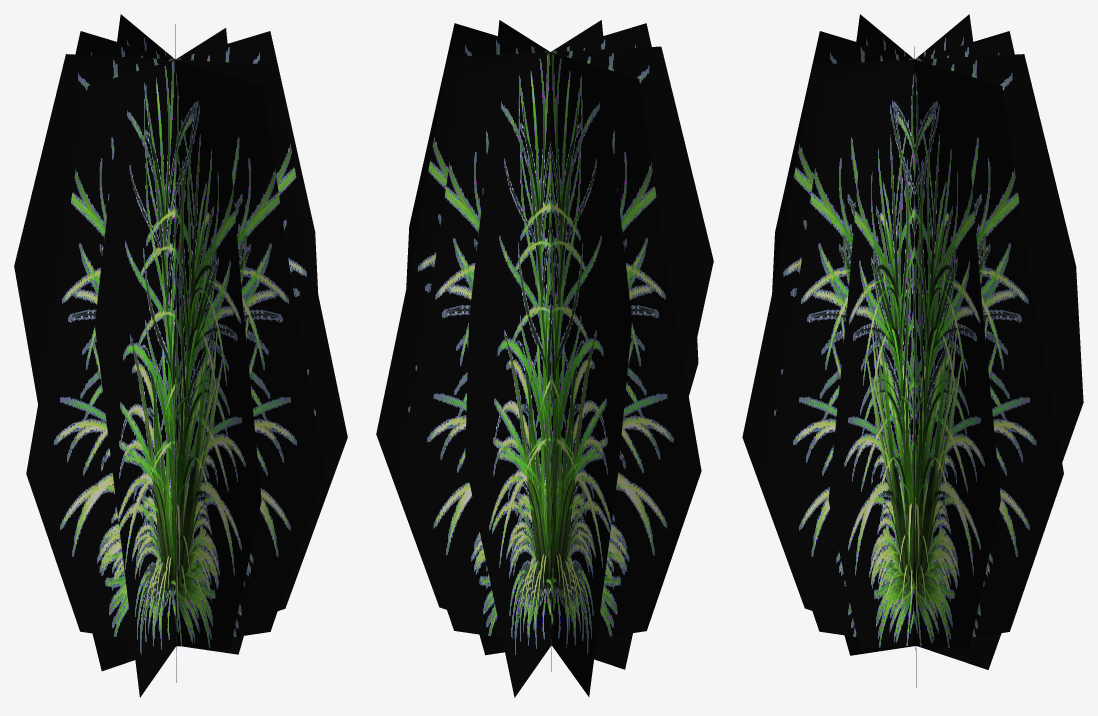
File: PlantaConVertexPaint - copia.FBX
3 views of the same model, side by side, from view 1: azimuth 30°, elevation 25°; view 2: azimuth 150°, elevation 25°; view 3: azimuth 270°, elevation 25° (orthographic).
Parts seen in each view (by area): view 1: Plane004; view 2: Plane004; view 3: Plane004.
Boxes of the visible parts, left/top/right/bottom form: Plane004: left=14, top=14, right=347, bottom=697; Plane004: left=376, top=20, right=713, bottom=697; Plane004: left=742, top=14, right=1083, bottom=687.
Size of the model in its own units: 161 by 321 by 161.
Materials: 1 (1 with a texture image).
